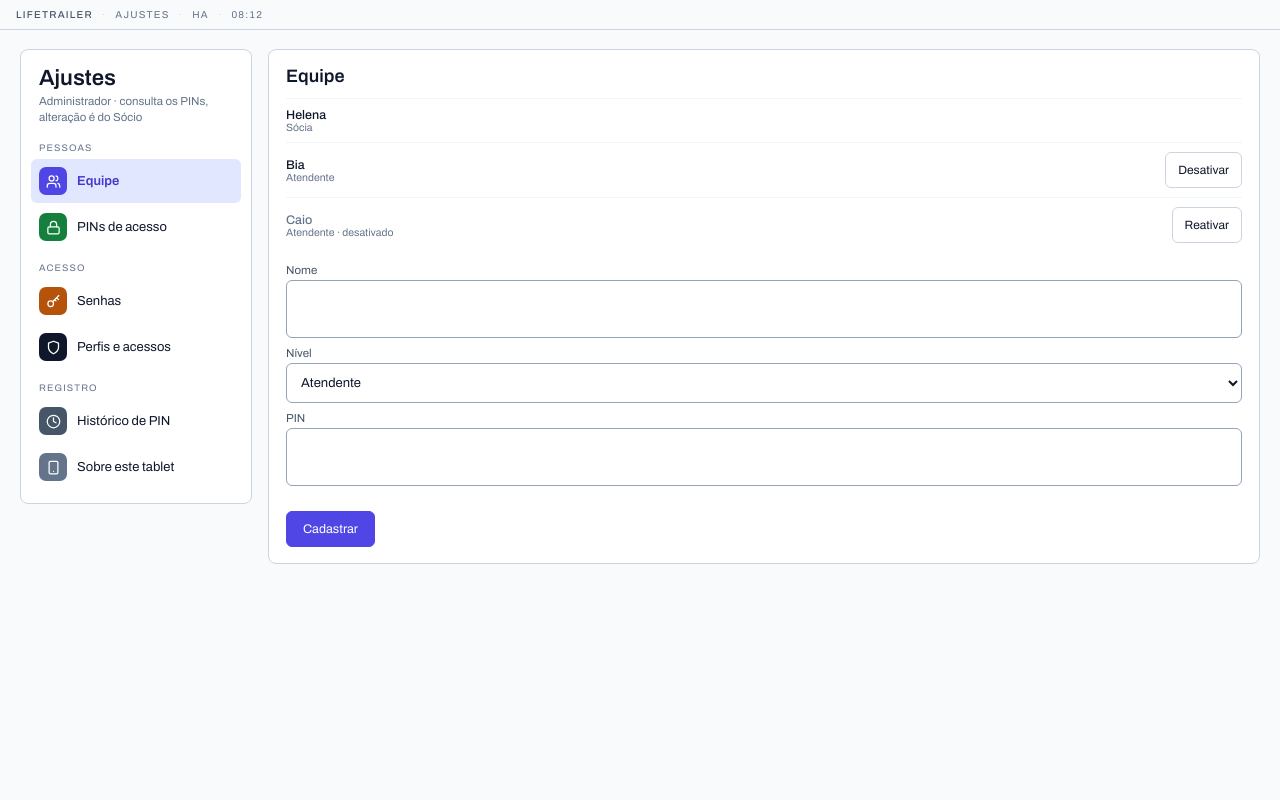
Test case: cada seção mostra o seu: PINs só de Atendente, perfis, histórico e o tablet
What coordinates should you click on to do the following:
click the button "PINs de acesso"
I would click on:
 (136, 227)
Its box is top-left (31, 205), bottom-right (241, 249).
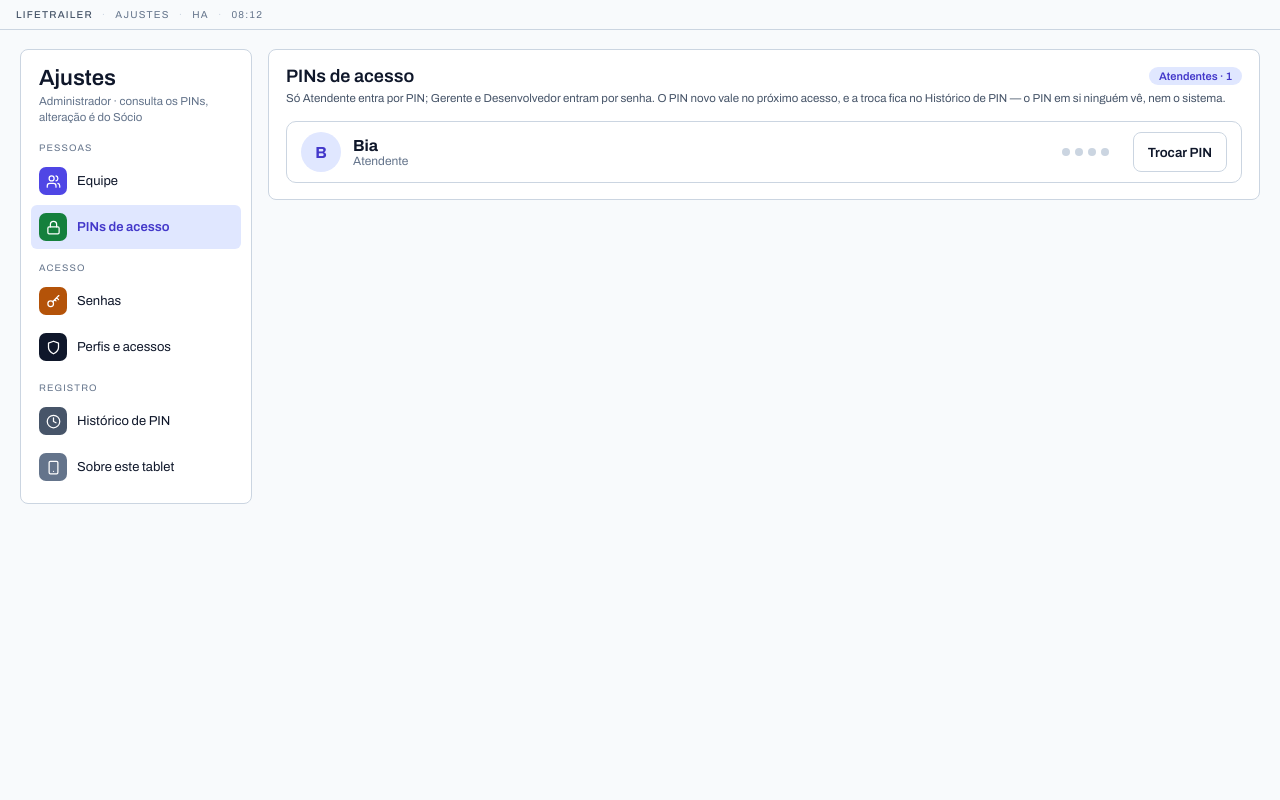
Result: the text "Helena" is gone
Result: the button with aria-label "Trocar PIN de Bia" is shown at top-left (1133, 132), bottom-right (1227, 172)
What coordinates should you click on to do the following:
click the button "Perfis e acessos"
I would click on:
 (136, 347)
Its box is top-left (31, 325), bottom-right (241, 369).
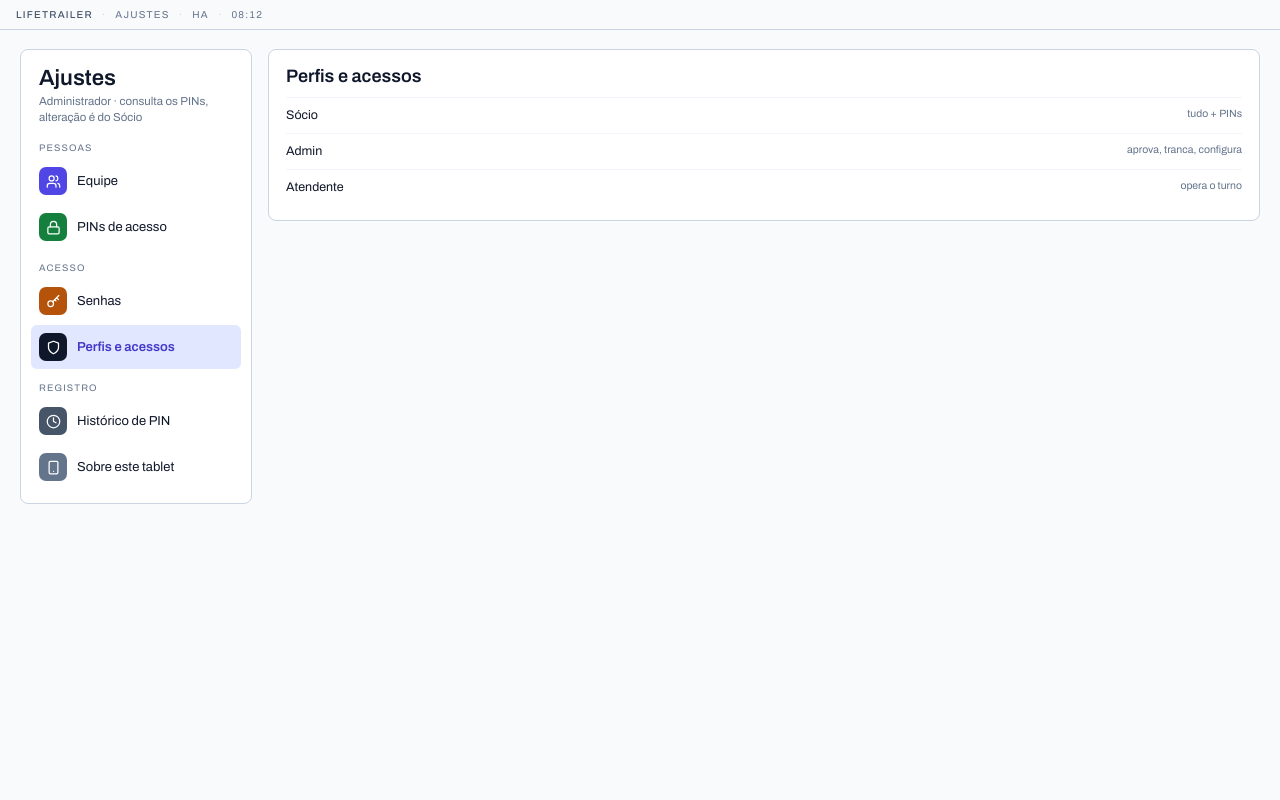
Result: the element "Perfis e acessos" shows "Sócio" at top-left (286, 108), bottom-right (318, 122)
What coordinates should you click on to do the following:
click the button "Histórico de PIN"
I would click on:
 (136, 421)
Its box is top-left (31, 399), bottom-right (241, 443).
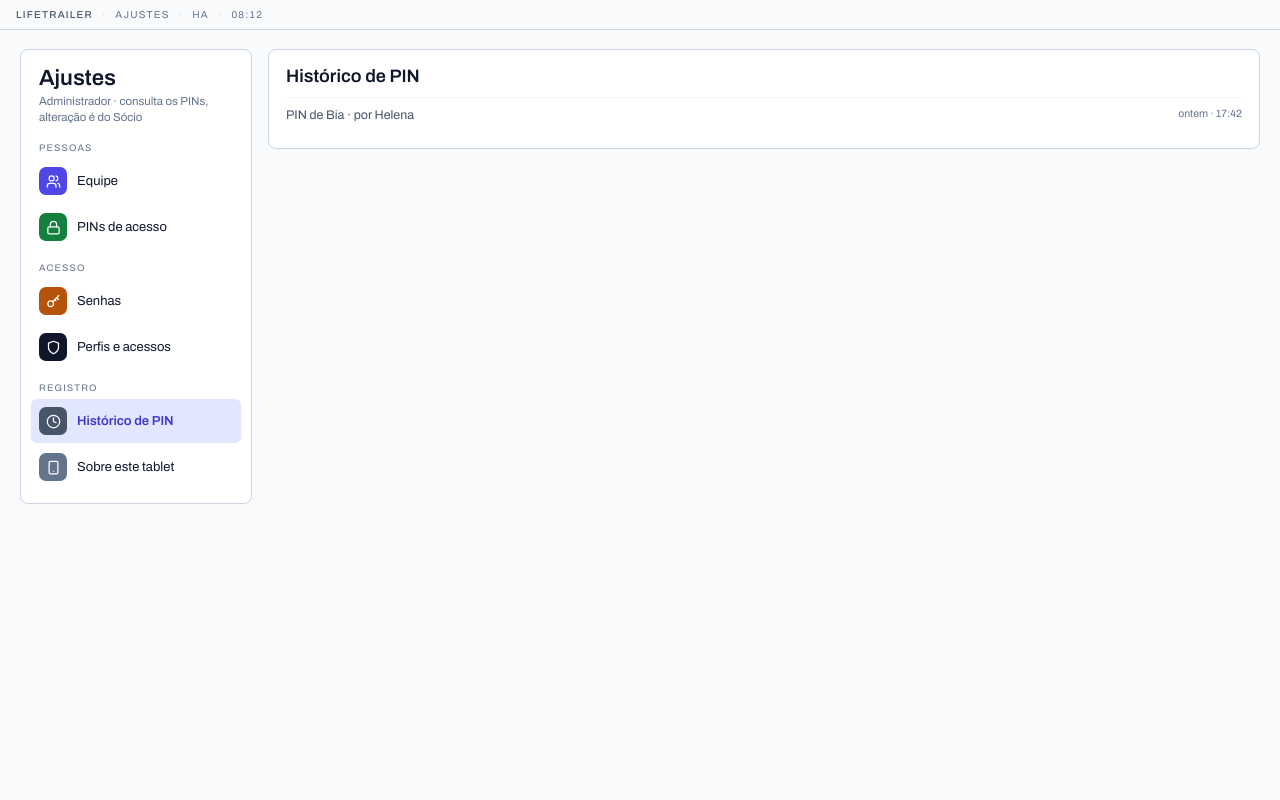
Result: the element "Histórico de PIN" shows "Bia" at top-left (326, 108), bottom-right (344, 122)
What coordinates should you click on to do the following:
click the button "Sobre este tablet"
I would click on:
 (136, 467)
Its box is top-left (31, 445), bottom-right (241, 489).
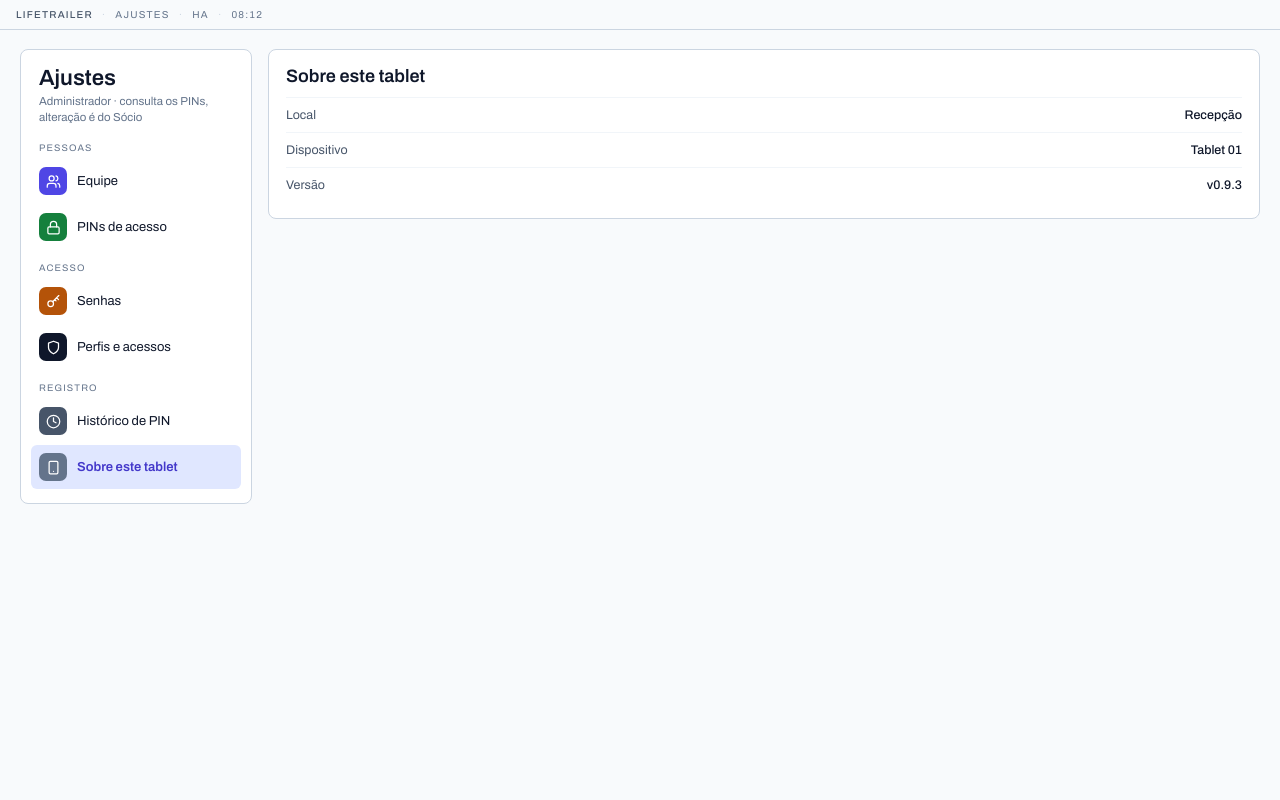
Result: the element "Sobre este tablet" shows "Recepção" at top-left (1184, 108), bottom-right (1242, 122)
Result: the element "Sobre este tablet" shows "Tablet 01" at top-left (1191, 143), bottom-right (1242, 157)
Result: the element "Sobre este tablet" shows "v0.9.3" at top-left (1207, 178), bottom-right (1242, 192)
